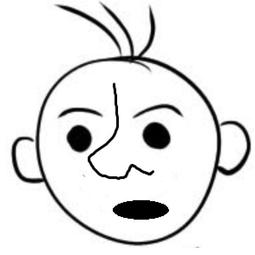ear: (5, 127, 48, 187), (212, 116, 252, 180)
eye: (139, 120, 177, 150), (62, 123, 94, 154)
eyebrow: (131, 98, 189, 118), (53, 99, 104, 119)
large_nose: (83, 80, 158, 185)
open_mouth: (109, 195, 173, 228)
